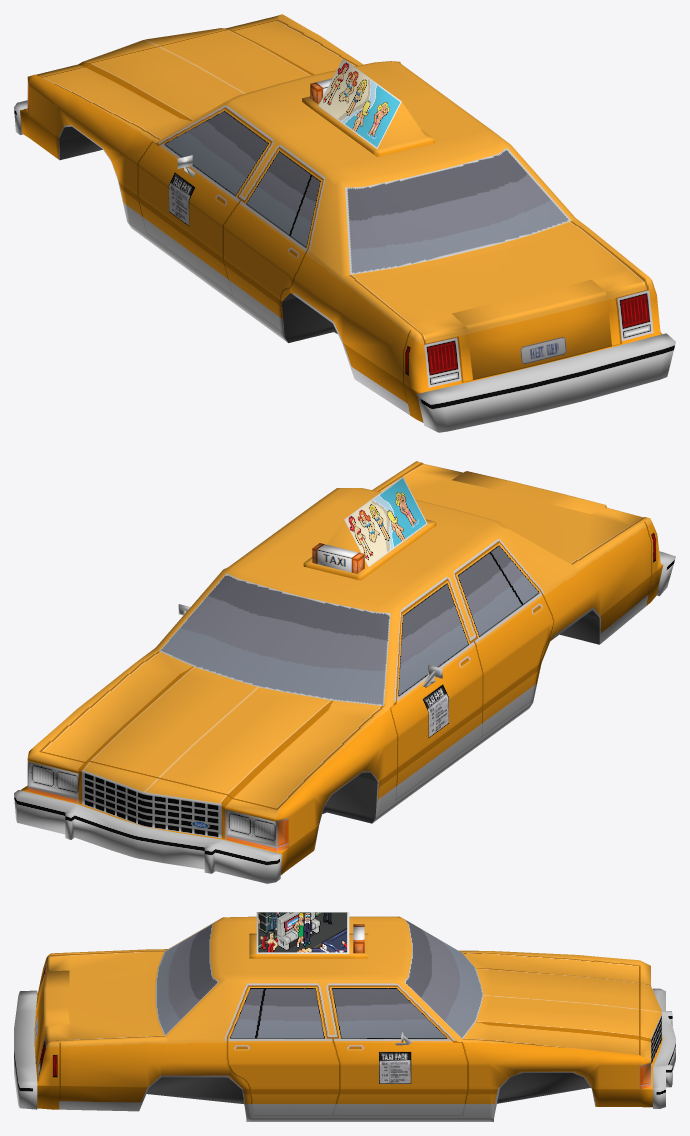
File: 86crownvictorialtdtaxi2.fbx
3 views of the same model, one above another, from view 1: azimuth 30°, elevation 25°; view 2: azimuth 150°, elevation 25°; view 3: azimuth 270°, elevation 25° (orthographic). The views are drawn at different scales.
Visible parts, largest first — view 1: 86crownvictoria; view 2: 86crownvictoria; view 3: 86crownvictoria.
Part boxes in pixels (x1,y1,x2,y2): 86crownvictoria: [14, 14, 675, 432]; 86crownvictoria: [14, 461, 675, 883]; 86crownvictoria: [14, 912, 675, 1121].
Bounding box in the file's own units: 1.98 × 1.49 × 5.47.
